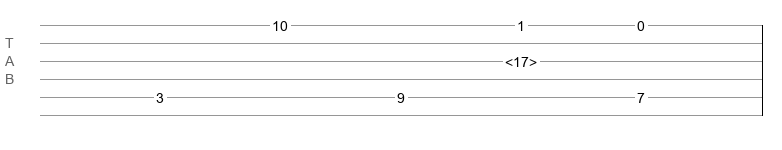0: (637, 18, 645, 28)
1: (517, 18, 525, 28)
10: (272, 18, 288, 28)
3: (156, 90, 164, 100)
7: (637, 90, 645, 100)
9: (397, 90, 405, 100)
harmonic: (505, 54, 537, 64)
